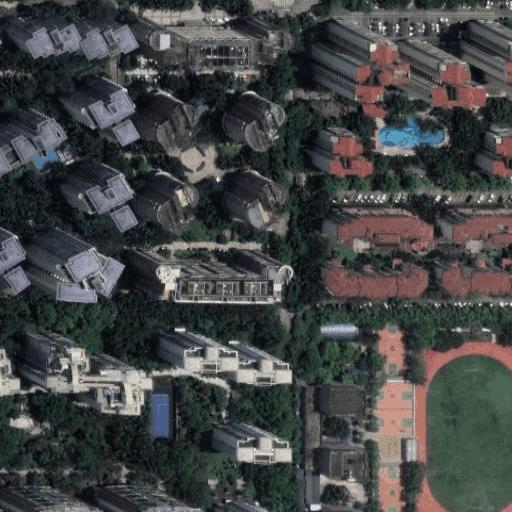building: (21, 329, 128, 402), (168, 19, 295, 61), (131, 250, 267, 289), (4, 14, 117, 52), (29, 228, 97, 285), (314, 23, 370, 84), (59, 162, 117, 217), (61, 77, 116, 132), (325, 262, 427, 291), (433, 206, 512, 240), (468, 20, 512, 79), (0, 104, 51, 154), (326, 210, 421, 236), (399, 44, 449, 88), (434, 261, 512, 289), (139, 174, 181, 222), (471, 122, 512, 170), (141, 375, 172, 437), (139, 93, 181, 137), (225, 92, 262, 140), (312, 125, 355, 165), (225, 171, 263, 216), (101, 487, 165, 512), (4, 487, 65, 512), (162, 334, 214, 361), (213, 424, 270, 448), (305, 387, 321, 470), (214, 347, 271, 370), (309, 312, 354, 335), (330, 452, 365, 481), (330, 388, 364, 414), (306, 470, 321, 510), (132, 19, 159, 39), (215, 502, 264, 512), (406, 439, 418, 462)
